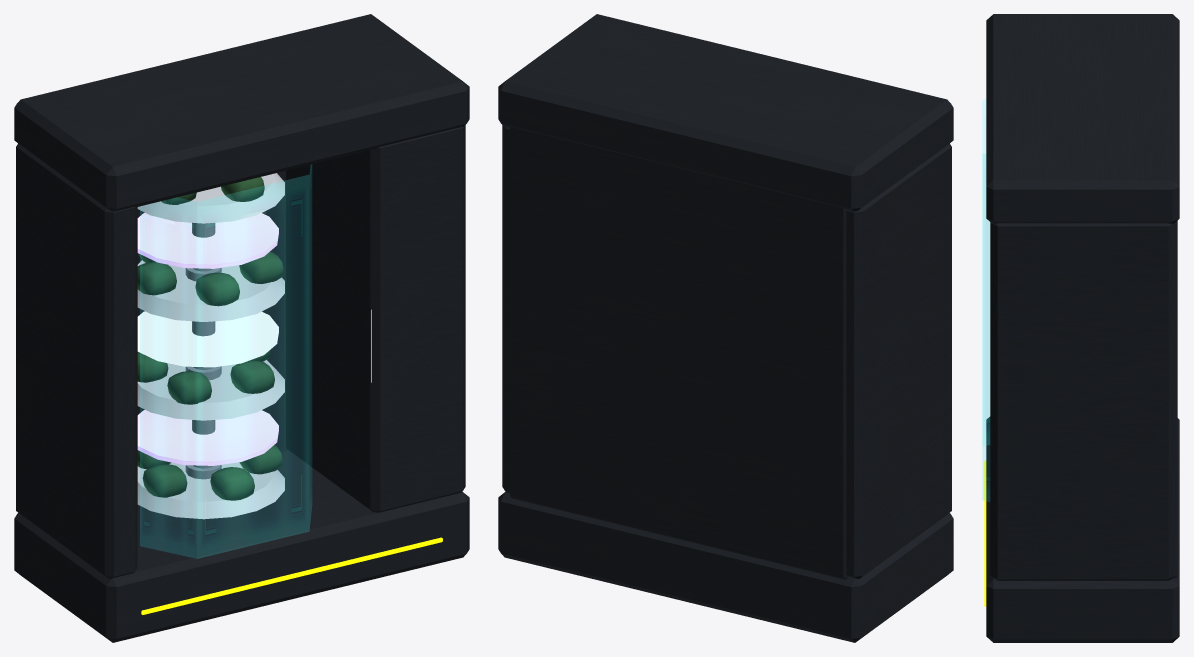
Rendered from hydro_column_r1_05.glb.
3 views of the same model, side by side, from view 1: azimuth 30°, elevation 25°; view 2: azimuth 150°, elevation 25°; view 3: azimuth 270°, elevation 25° (orthographic). The views are drawn at different scales.
Visible parts, largest first — view 1: Hydro05_CentrifugeGunmetalHull, Hydro05_TranslucentDrumEnclosure, Hydro05_WhiteCentrifugeDrumRings, Hydro05_AxialUVGrowLamp, Hydro05_CentrifugeBotanicalFoliage, Hydro05_DaylightGrowHalos, Hydro05_MachinedDrumTrunnionsAndPipes, Hydro05_AmberSumpLED; view 2: Hydro05_CentrifugeGunmetalHull; view 3: Hydro05_CentrifugeGunmetalHull, Hydro05_TranslucentDrumEnclosure, Hydro05_AmberSumpLED.
Part boxes in pixels (<box>): Hydro05_CentrifugeGunmetalHull: <box>14,14,469,642</box>; Hydro05_TranslucentDrumEnclosure: <box>140,165,311,558</box>; Hydro05_WhiteCentrifugeDrumRings: <box>137,173,284,519</box>; Hydro05_AxialUVGrowLamp: <box>137,213,278,465</box>; Hydro05_CentrifugeBotanicalFoliage: <box>137,177,283,500</box>; Hydro05_DaylightGrowHalos: <box>137,311,278,367</box>; Hydro05_MachinedDrumTrunnionsAndPipes: <box>185,222,221,479</box>; Hydro05_AmberSumpLED: <box>141,537,442,614</box>; Hydro05_CentrifugeGunmetalHull: <box>498,14,953,642</box>; Hydro05_CentrifugeGunmetalHull: <box>986,14,1179,642</box>; Hydro05_TranslucentDrumEnclosure: <box>982,99,989,501</box>; Hydro05_AmberSumpLED: <box>984,460,986,606</box>.
Size of the model in its own units: 1.98 by 2.48 by 0.96.
Materials: 11 (11 with a texture image).
